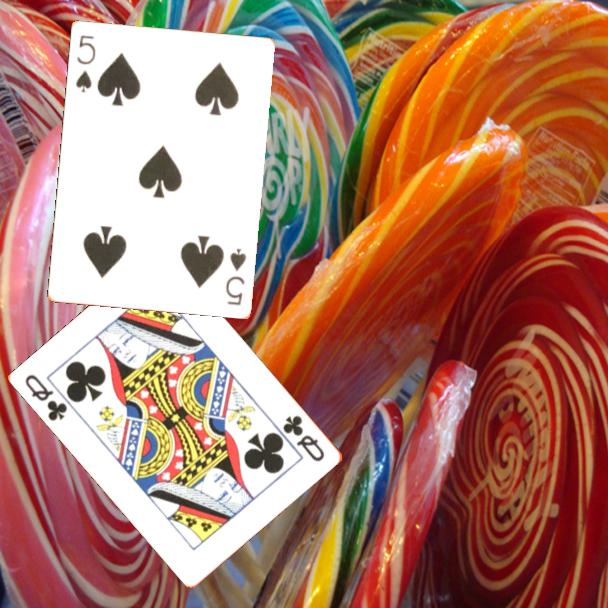c12: (279, 412, 328, 465), (22, 371, 71, 424)
s05: (222, 245, 249, 308), (72, 31, 98, 95)
